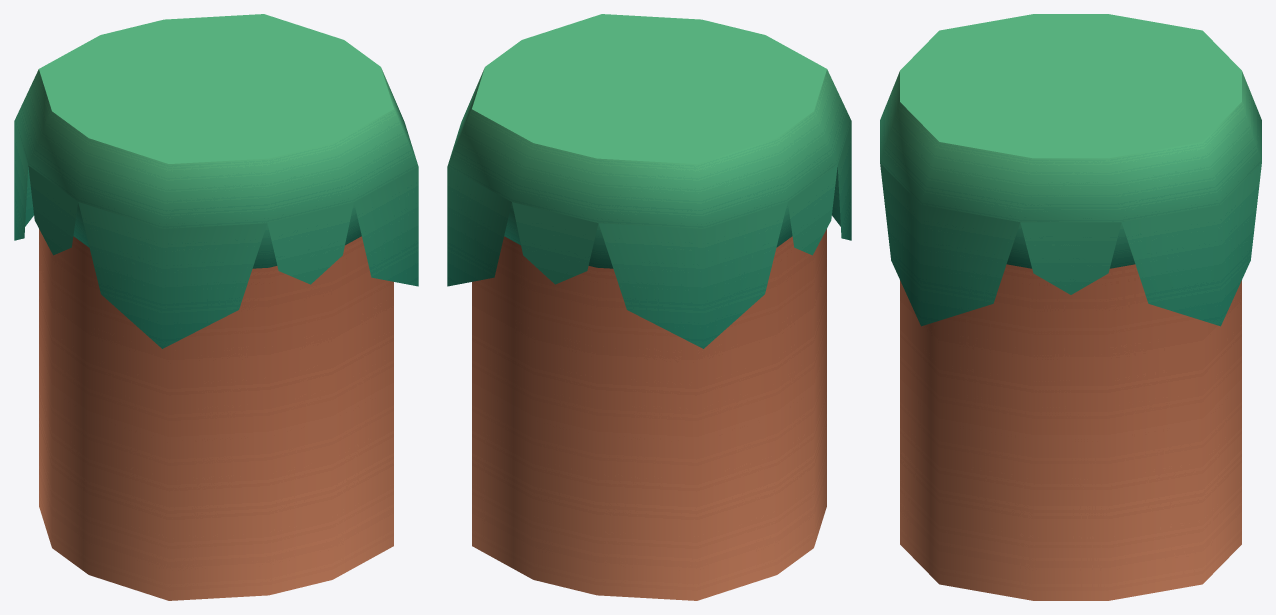
File: block-grass-overhang-narrow.glb
The picture shows the model from 3 angles, left to right: view 1: azimuth 30°, elevation 25°; view 2: azimuth 150°, elevation 25°; view 3: azimuth 270°, elevation 25°; orthographic projection.
Parts seen in each view (by area): view 1: block-grass-overhang-narrow; view 2: block-grass-overhang-narrow; view 3: block-grass-overhang-narrow.
Boxes of the visible parts, left/top/right/bottom form: block-grass-overhang-narrow: left=14, top=14, right=418, bottom=600; block-grass-overhang-narrow: left=447, top=14, right=851, bottom=600; block-grass-overhang-narrow: left=880, top=14, right=1261, bottom=600.
Size of the model in its own units: 0.7821 by 1 by 0.7821.
Materials: 1 (1 with a texture image).
